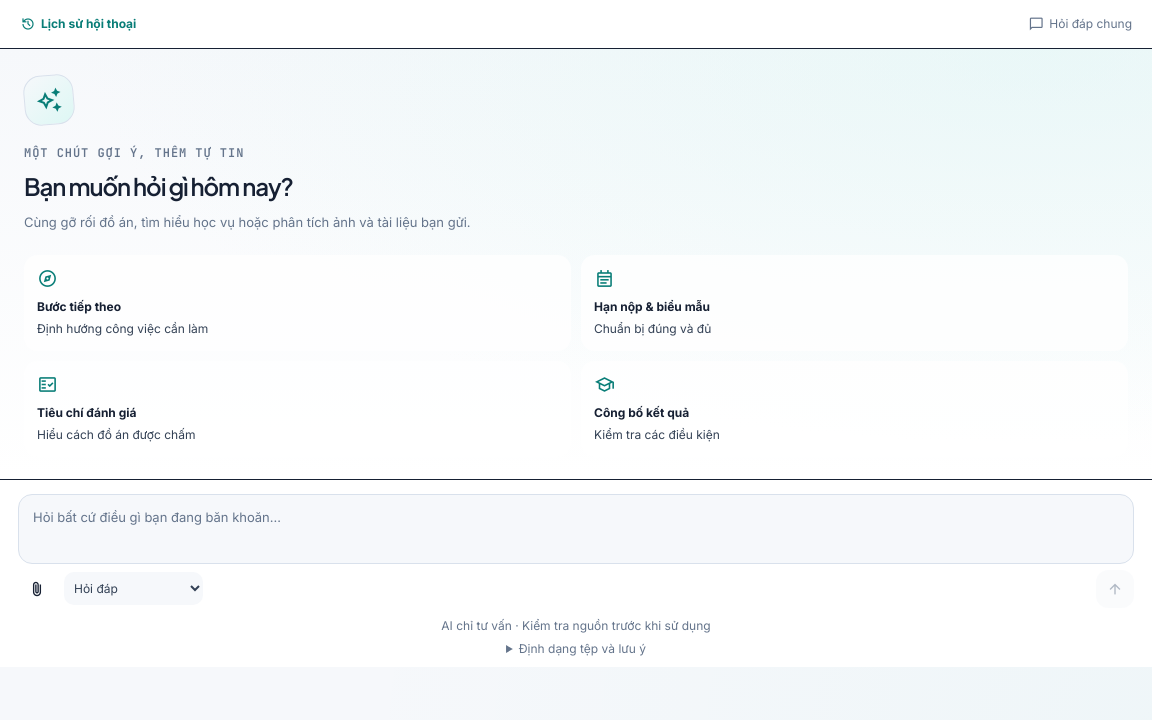
exposes document templates without a project and sends the selected mode
Select "Soạn báo cáo tuần" in the dropdown named "Chế độ trợ lý" at coordinates (134, 589), box [64,572,203,605]
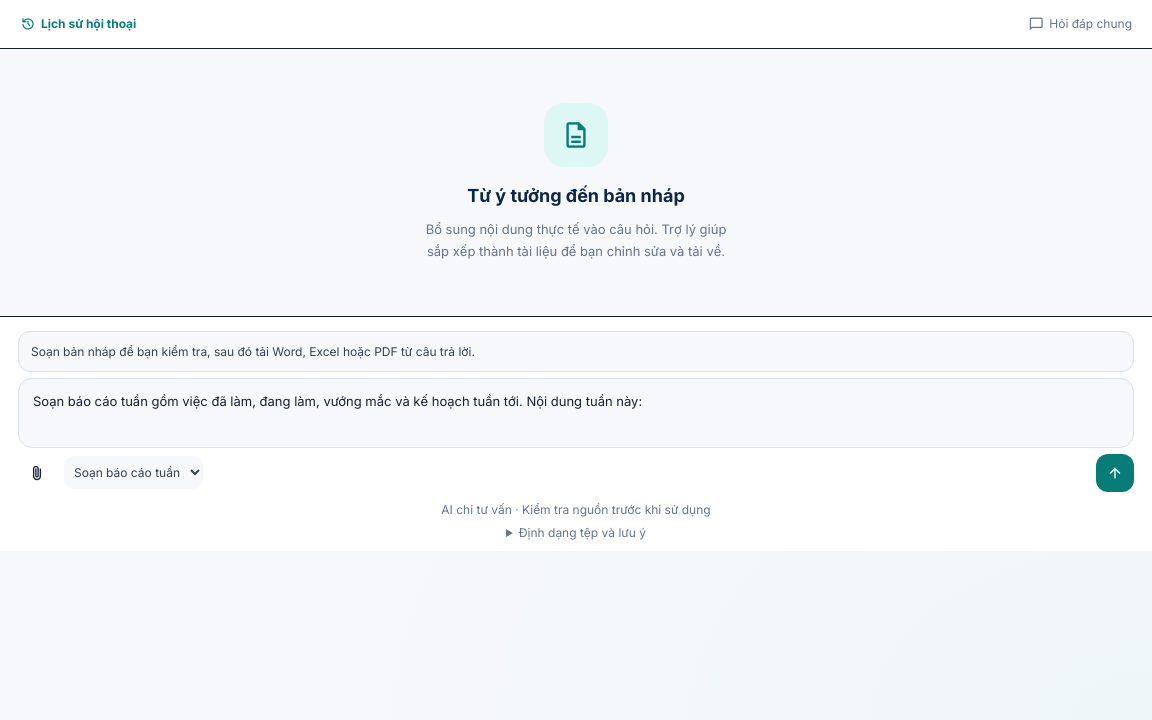
Click the button named "Gửi" at coordinates (1115, 473), box [1096,454,1134,492]
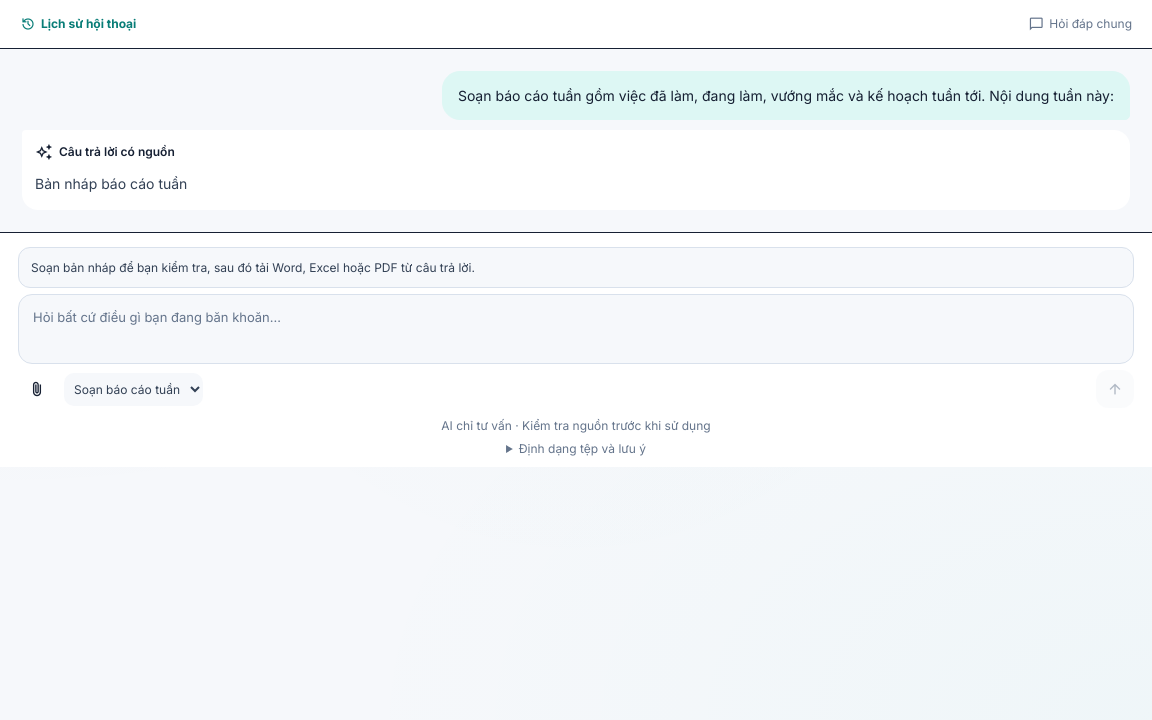
Expected: the text "Bản nháp báo cáo tuần" is shown, [35,175,187,192]
